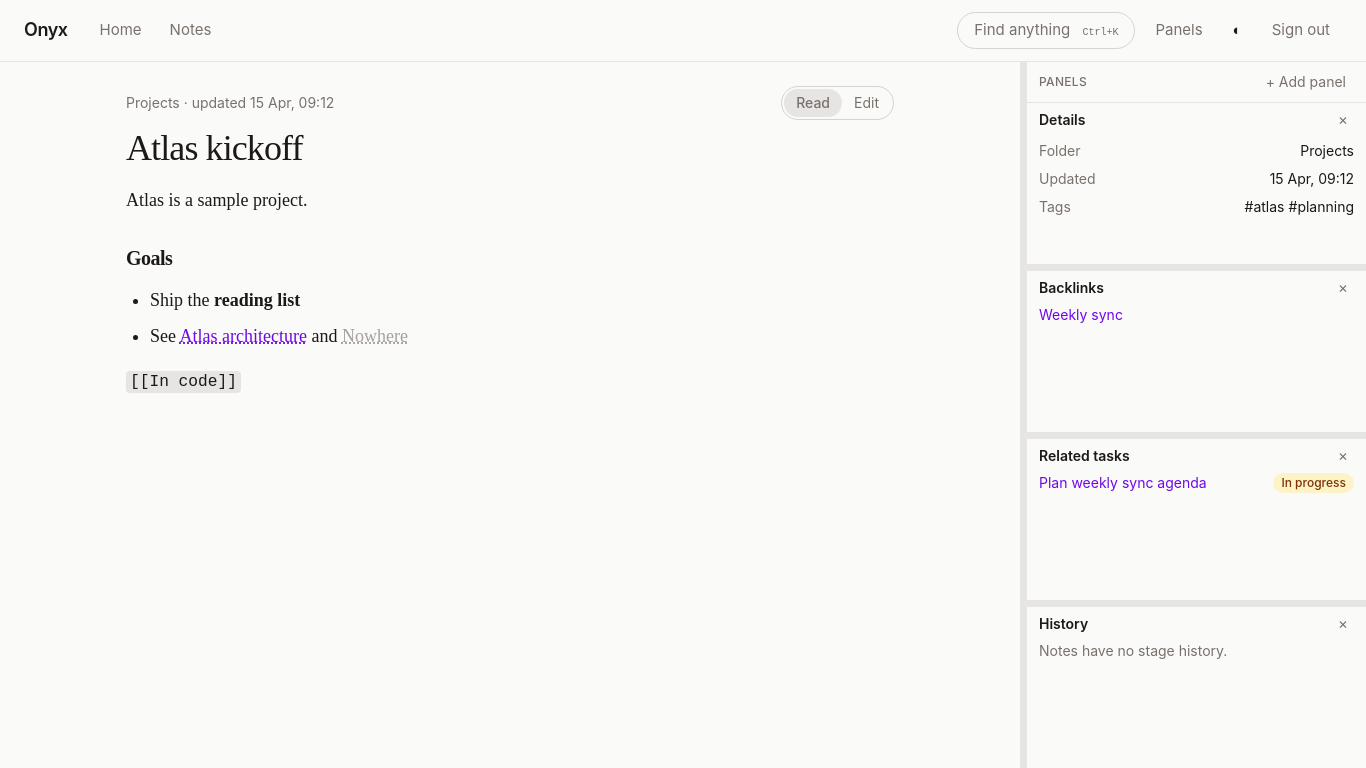
editing a note › saves the body with the version it opened, then shows the note again
Click the button "Edit" at (866, 102), box [842, 88, 891, 116]
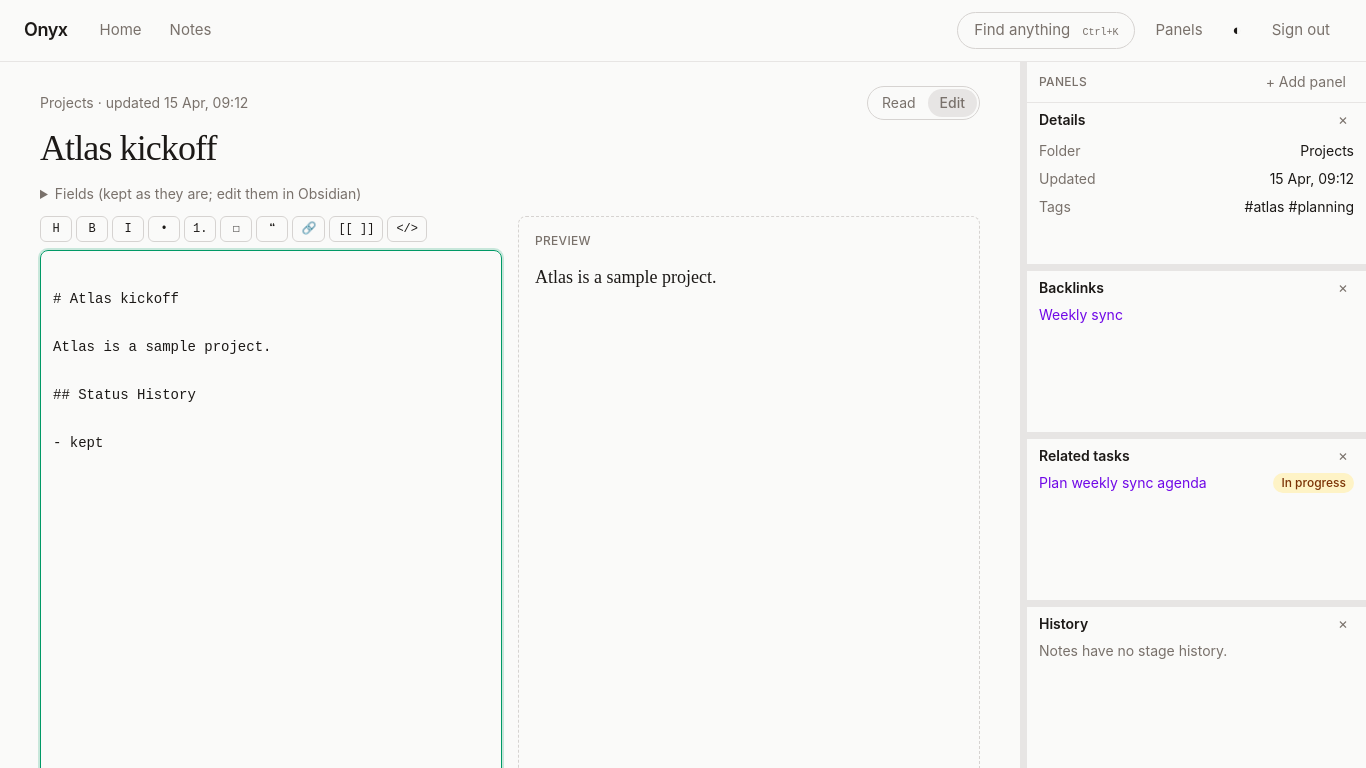
Type keys "More text."
(page scrolled)
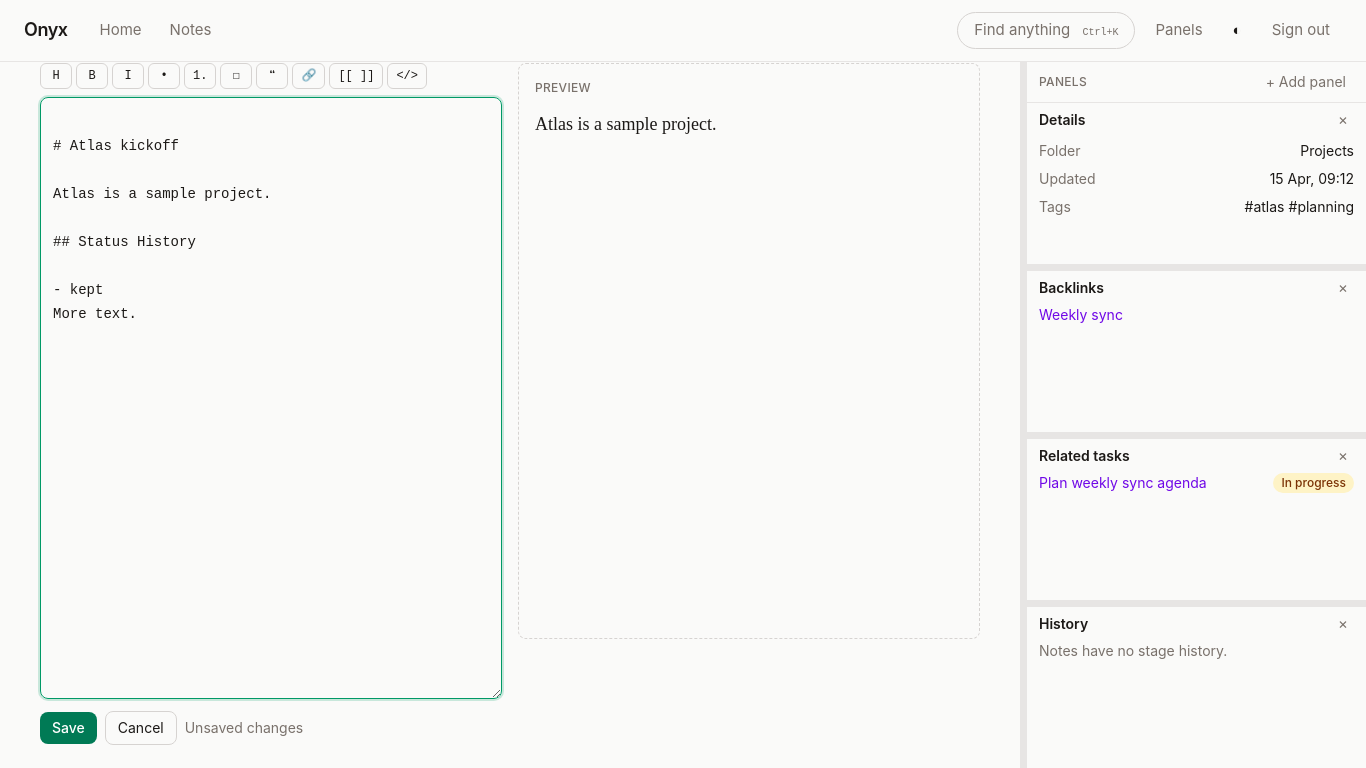
expect the text "Unsaved changes" is shown: met, box [185, 718, 303, 738]
Click the button "Save" at (68, 728), box [40, 712, 97, 744]
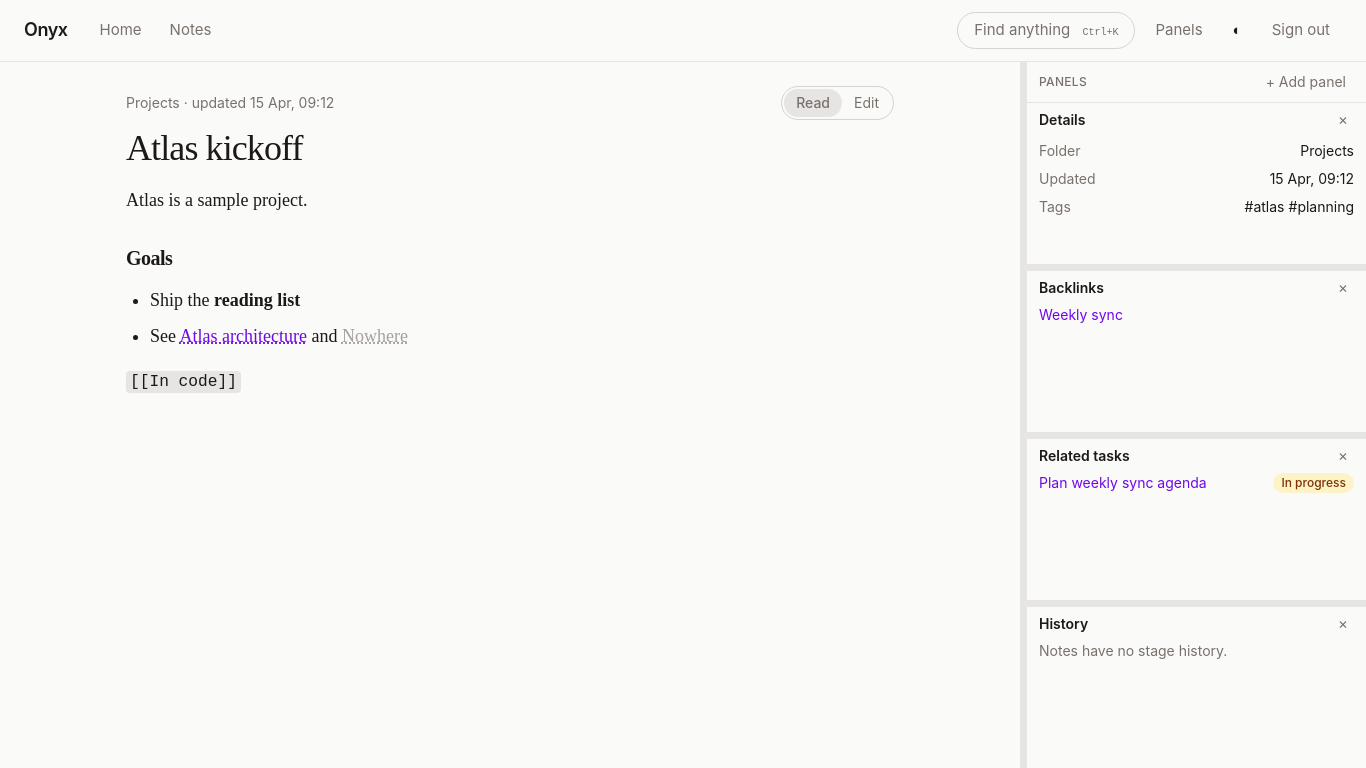
expect the heading "Goals" is shown: met, box [126, 246, 172, 268]
